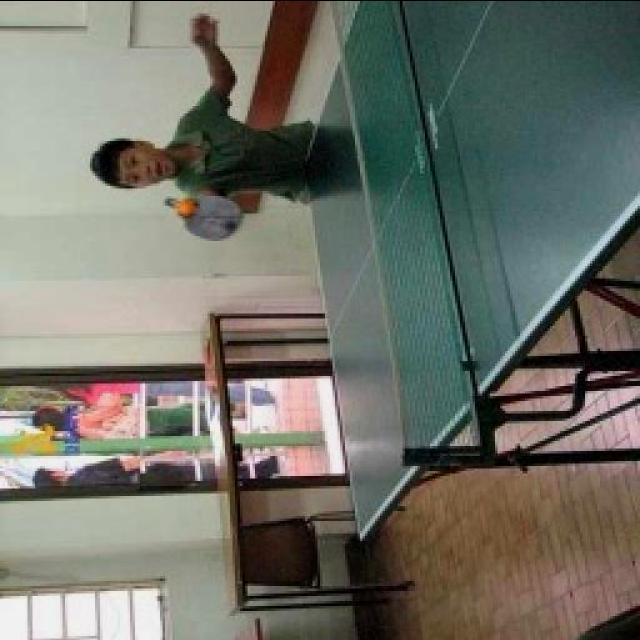oball: (174, 200, 196, 214)
